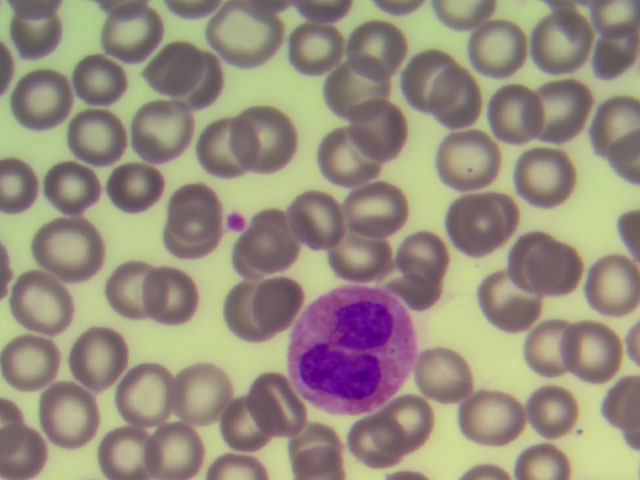Platelets: (221, 209, 250, 230)
RBC: (9, 66, 72, 133), (65, 43, 128, 110), (94, 13, 157, 80), (136, 30, 199, 97), (214, 4, 277, 71), (276, 12, 339, 79), (336, 8, 399, 75), (325, 53, 388, 120), (351, 94, 414, 161), (318, 118, 381, 185), (341, 169, 404, 236), (282, 186, 345, 253), (322, 214, 385, 281), (393, 224, 456, 291), (439, 188, 502, 255), (442, 129, 505, 196), (431, 70, 494, 137), (404, 40, 467, 107), (469, 19, 532, 86), (523, 7, 586, 74), (531, 73, 594, 140), (487, 84, 550, 151), (515, 148, 578, 215), (577, 93, 640, 160), (577, 250, 640, 317), (507, 225, 570, 292), (473, 267, 536, 334), (507, 310, 570, 377), (567, 325, 630, 392), (520, 381, 583, 448), (455, 387, 518, 454), (411, 343, 474, 410), (377, 393, 440, 460), (338, 412, 401, 479), (286, 413, 349, 480), (242, 372, 305, 439), (218, 399, 281, 466), (166, 354, 229, 421), (138, 410, 201, 477), (121, 355, 184, 422), (96, 413, 159, 480), (66, 328, 129, 395), (44, 388, 107, 455), (4, 332, 67, 399), (7, 272, 70, 339), (32, 213, 95, 280), (39, 155, 102, 222), (103, 151, 166, 218), (69, 103, 132, 170), (125, 94, 188, 161), (195, 117, 258, 184), (234, 101, 297, 168), (162, 177, 225, 244), (149, 263, 212, 330), (96, 253, 159, 320), (216, 280, 279, 347), (227, 225, 290, 292), (242, 195, 305, 262), (247, 260, 310, 327)
WBC: (286, 285, 418, 421)
